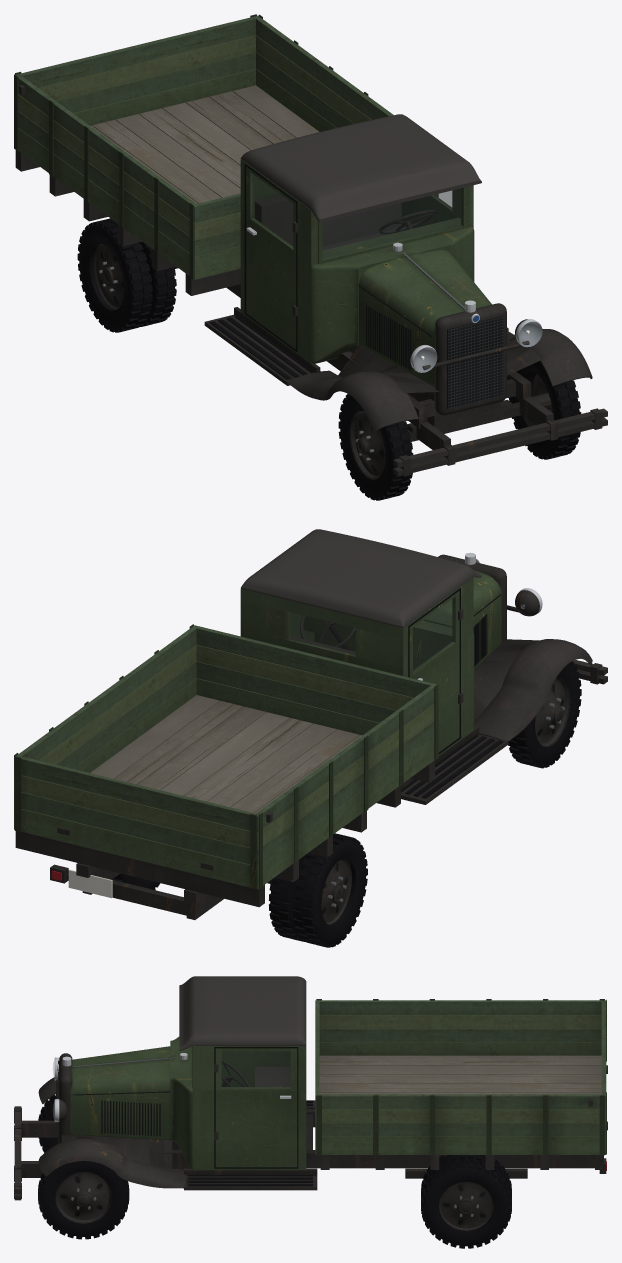
File: gaz_aa.glb
3 views of the same model, one above another, from view 1: azimuth 30°, elevation 25°; view 2: azimuth 150°, elevation 25°; view 3: azimuth 270°, elevation 25° (orthographic). The views are drawn at different scales.
Parts seen in each view (by area): view 1: gaz_aa; view 2: gaz_aa; view 3: gaz_aa.
Boxes of the visible parts, x1,y1,x2,y2 form: gaz_aa: (14,14,607,500); gaz_aa: (14,529,607,947); gaz_aa: (14,976,607,1248).
Bounding box in the file's own units: 2.1 × 1.97 × 5.34.
Materials: 23 (9 with a texture image).
